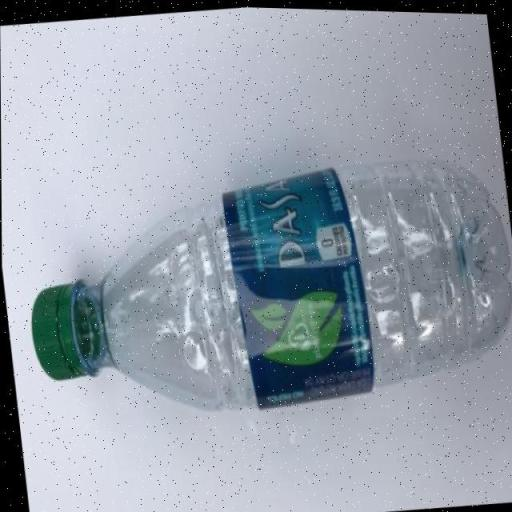plastic: (13, 134, 512, 441)
